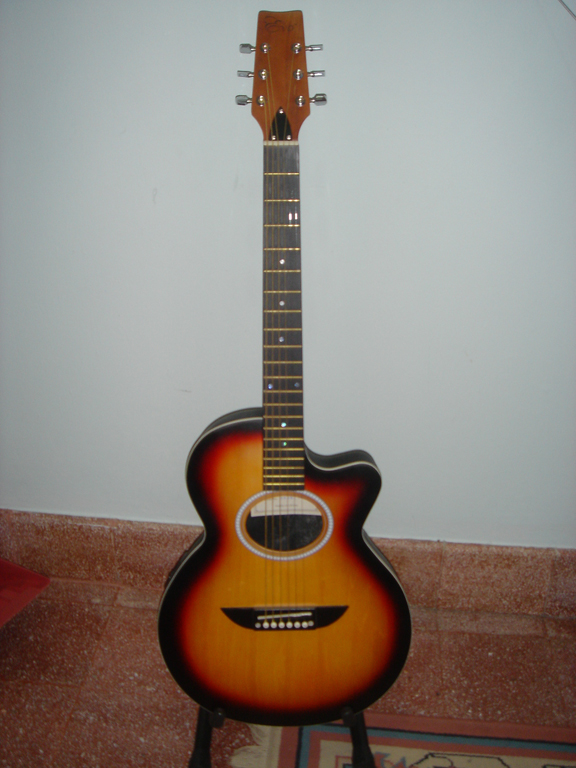guitar: (160, 9, 414, 731)
